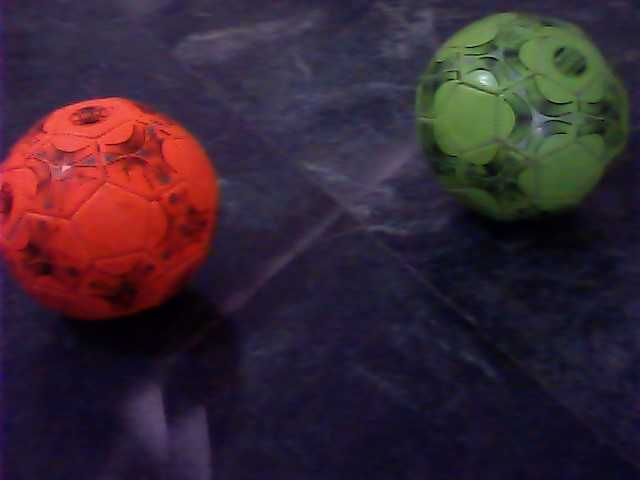Green_ball: (420, 4, 640, 224)
Orange_ball: (1, 95, 234, 329)
